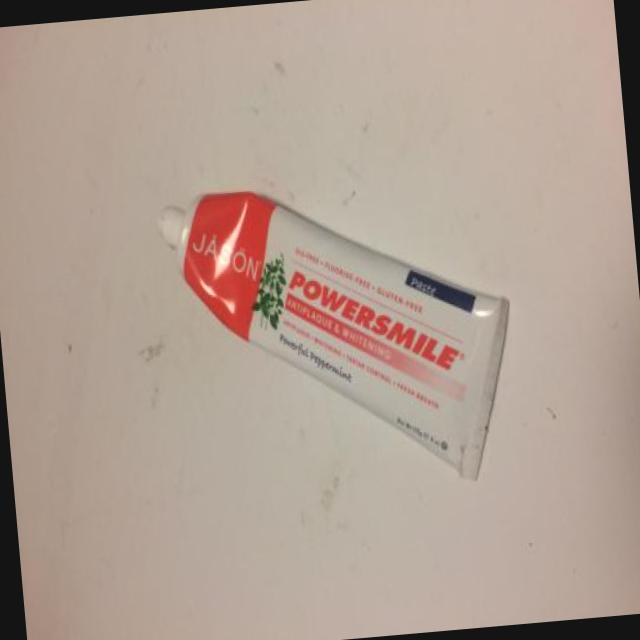Trash: (151, 158, 527, 520)
